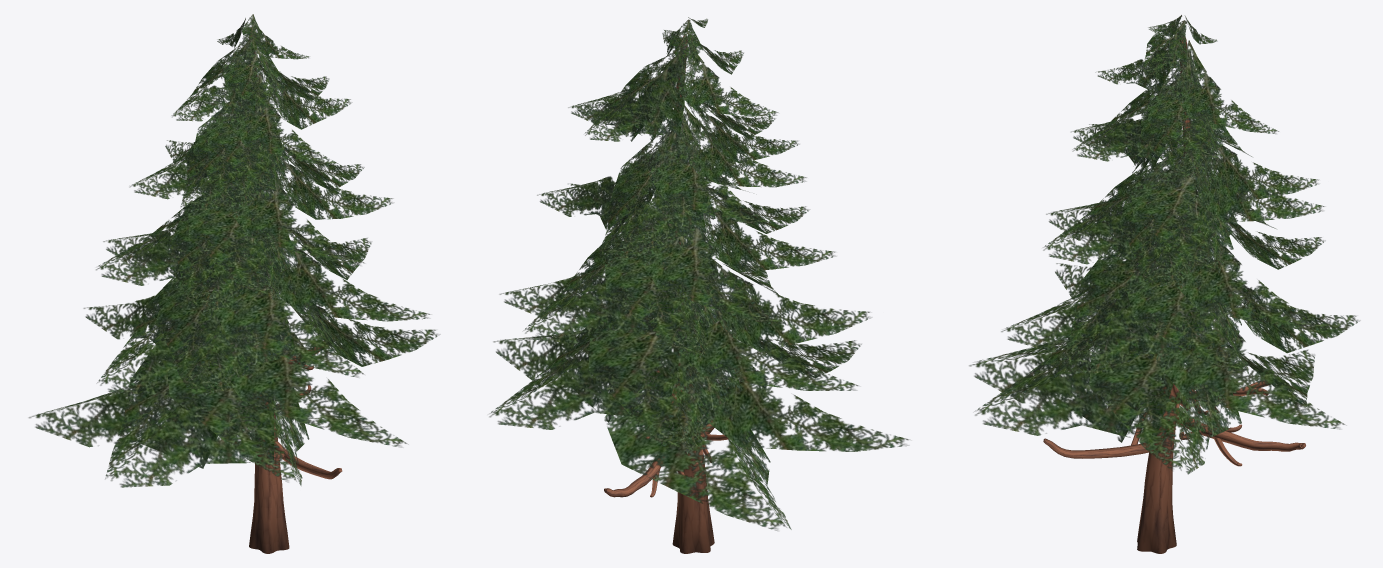
The model's file is pine.glb.
3 views of the same model, side by side, from view 1: azimuth 30°, elevation 25°; view 2: azimuth 150°, elevation 25°; view 3: azimuth 270°, elevation 25° (orthographic). The views are drawn at different scales.
Visible parts, largest first — view 1: Pine; view 2: Pine; view 3: Pine.
Boxes of the visible parts, x1,y1,x2,y2 form: Pine: (29,14,439,553); Pine: (489,17,909,553); Pine: (969,15,1359,553).
Bounding box in the file's own units: 5.73 × 7.38 × 5.22.
Materials: 2 (2 with a texture image).
